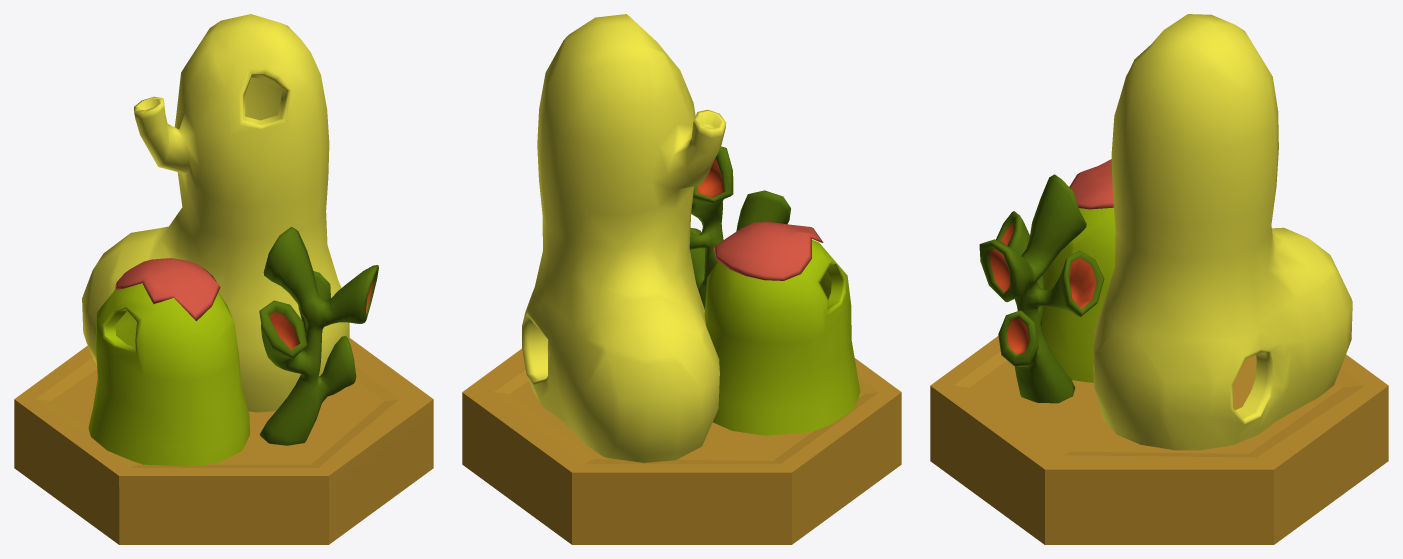
File: House_02.fbx
3 views of the same model, side by side, from view 1: azimuth 30°, elevation 25°; view 2: azimuth 150°, elevation 25°; view 3: azimuth 270°, elevation 25° (orthographic). The views are drawn at different scales.
Parts seen in each view (by area): view 1: Cylinder.039; view 2: Cylinder.039; view 3: Cylinder.039.
Boxes of the visible parts, x1=… form: Cylinder.039: x1=14, y1=14, x2=433, y2=544; Cylinder.039: x1=462, y1=14, x2=901, y2=544; Cylinder.039: x1=930, y1=14, x2=1388, y2=544.
Size of the model in its own units: 173 by 223 by 200.
Materials: 1 (1 with a texture image).
